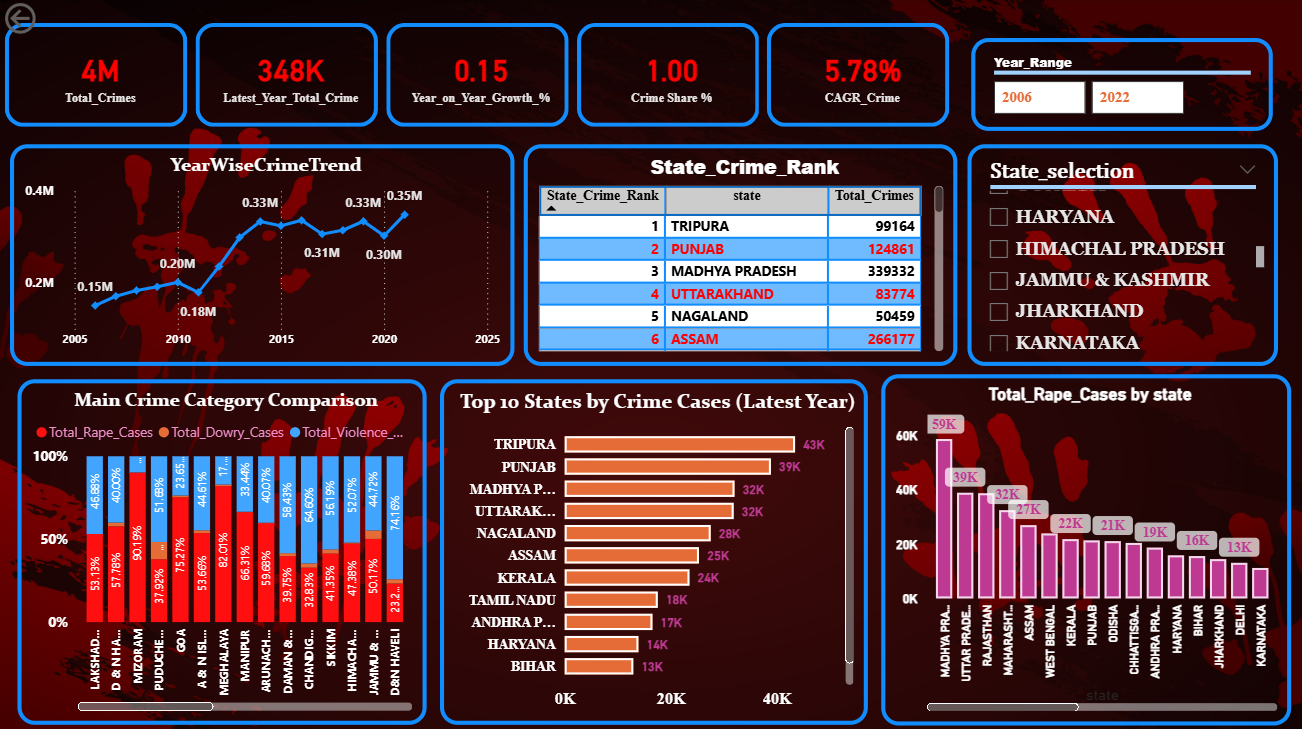

What the dashboard file says about the page in this screenshot:
{"tool":"powerbi","page":{"name":"Page 1","canvas":[1280,720],"ordinal":0},"visuals":[{"type":"cardVisual","fields":{"Data":["All_Measures.Total_Crimes","All_Measures.Latest_Year_Total_Crime","All_Measures.Year-on-Year Growth %","All_Measures.Crime Share %","All_Measures.CAGR_Crime"]},"box":[0,19.6,939.9,112.9],"z":0},{"type":"lineChart","title":"YearWiseCrimeTrend","fields":{"Category":["Women_Crime_Data.year"],"Y":["All_Measures.Total_Crimes"]},"box":[9.9,143.2,495.1,217.3],"z":1000},{"type":"clusteredBarChart","title":"Top 10 States by Crime Cases (Latest Year)","fields":{"Category":["Women_Crime_Data.state"],"Y":["All_Measures.Latest_Year_Total_Crime"]},"box":[432.1,374.1,419.8,339.5],"z":2000},{"type":"tableEx","title":"State_Crime_Rank","fields":{"Values":["All_Measures.State_Crime_Rank","Women_Crime_Data.state","All_Measures.Total_Crimes"]},"box":[513.6,143.2,425.9,217.3],"z":3000},{"type":"actionButton","box":[0,0,100,40],"z":4000},{"type":"hundredPercentStackedColumnChart","title":" Main Crime Category Comparison","fields":{"Category":["Women_Crime_Data.state"],"Y":["All_Measures.Total_Rape_Cases","All_Measures.Total_Dowry_Cases","All_Measures.Total_Violence_Cases"]},"box":[17.3,374.1,401.2,339.5],"z":5000},{"type":"lineClusteredColumnComboChart","fields":{"Category":["Women_Crime_Data.state"],"Y":["All_Measures.Total_Rape_Cases"]},"box":[865.4,369.1,402.5,344.4],"z":6000},{"type":"slicer","title":"year range","fields":{"Values":["Women_Crime_Data.year"]},"box":[953.1,39.5,296.3,91.4],"z":7000},{"type":"slicer","fields":{"Values":["Women_Crime_Data.state"]},"box":[949.4,143.2,304.9,217.3],"z":8000}]}

Visuals, with their boxes in screenshot pixels (x1, y1, x2, y2), scaled from the page's 1280x720 canvas onto the 1302x729 screenshot:
cardVisual - All_Measures.Total_Crimes x All_Measures.Latest_Year_Total_Crime: bbox(0, 20, 956, 134)
"YearWiseCrimeTrend" lineChart: bbox(10, 145, 514, 365)
"Top 10 States by Crime Cases (Latest Year)" clusteredBarChart: bbox(440, 379, 867, 723)
"State_Crime_Rank" tableEx: bbox(522, 145, 956, 365)
actionButton: bbox(0, 0, 102, 40)
" Main Crime Category Comparison" hundredPercentStackedColumnChart: bbox(18, 379, 426, 723)
lineClusteredColumnComboChart - Women_Crime_Data.state x All_Measures.Total_Rape_Cases: bbox(880, 374, 1290, 722)
"year range" slicer: bbox(969, 40, 1271, 133)
slicer - Women_Crime_Data.state: bbox(966, 145, 1276, 365)
